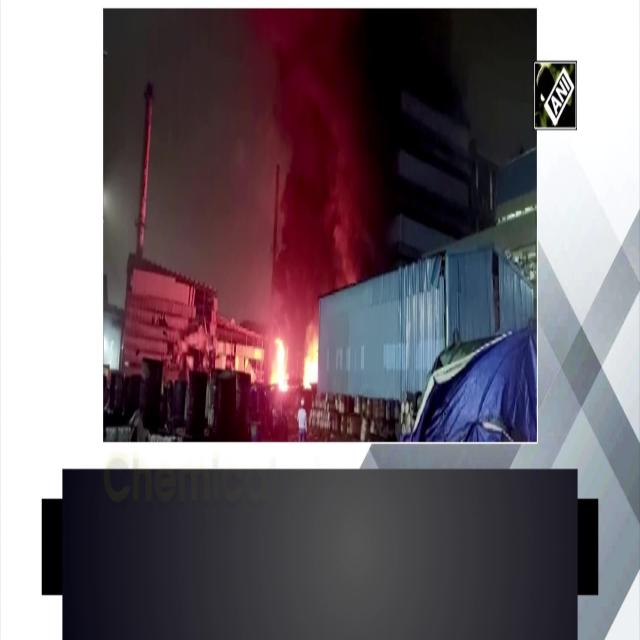fire: (271, 335, 287, 389)
smoke: (278, 68, 377, 270)
